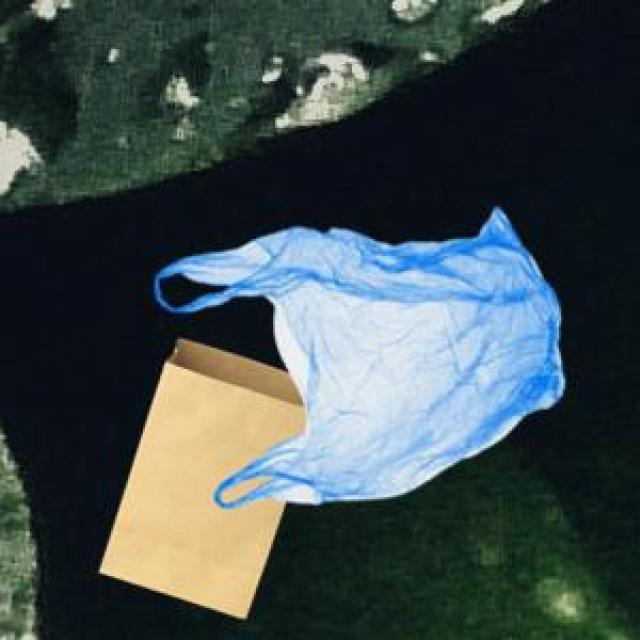paper: (96, 335, 301, 614)
